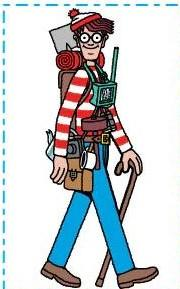waldos: (40, 9, 159, 289)
